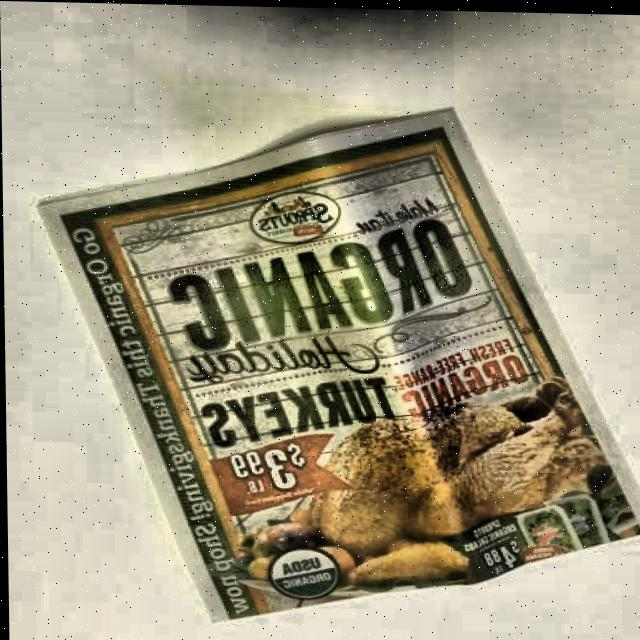paper: (35, 96, 640, 635)
